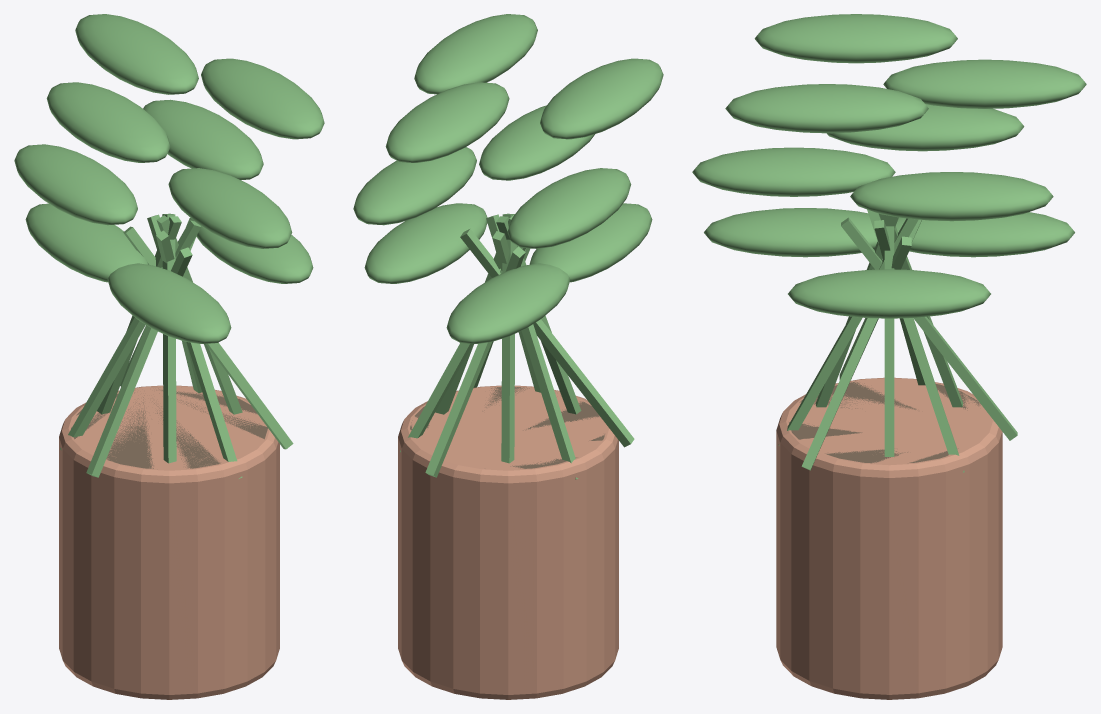
Rendered from office_plant.fbx.
The picture shows the model from 3 angles, left to right: view 1: azimuth 30°, elevation 25°; view 2: azimuth 150°, elevation 25°; view 3: azimuth 270°, elevation 25°; orthographic projection. The views are drawn at different scales.
Visible parts, largest first — view 1: office_plant; view 2: office_plant; view 3: office_plant.
Boxes of the visible parts, left/top/right/bottom form: office_plant: left=14, top=14, right=324, bottom=699; office_plant: left=353, top=14, right=663, bottom=699; office_plant: left=692, top=14, right=1086, bottom=699.
Bounding box in the file's own units: 0.3408 × 0.8125 × 0.4884.
